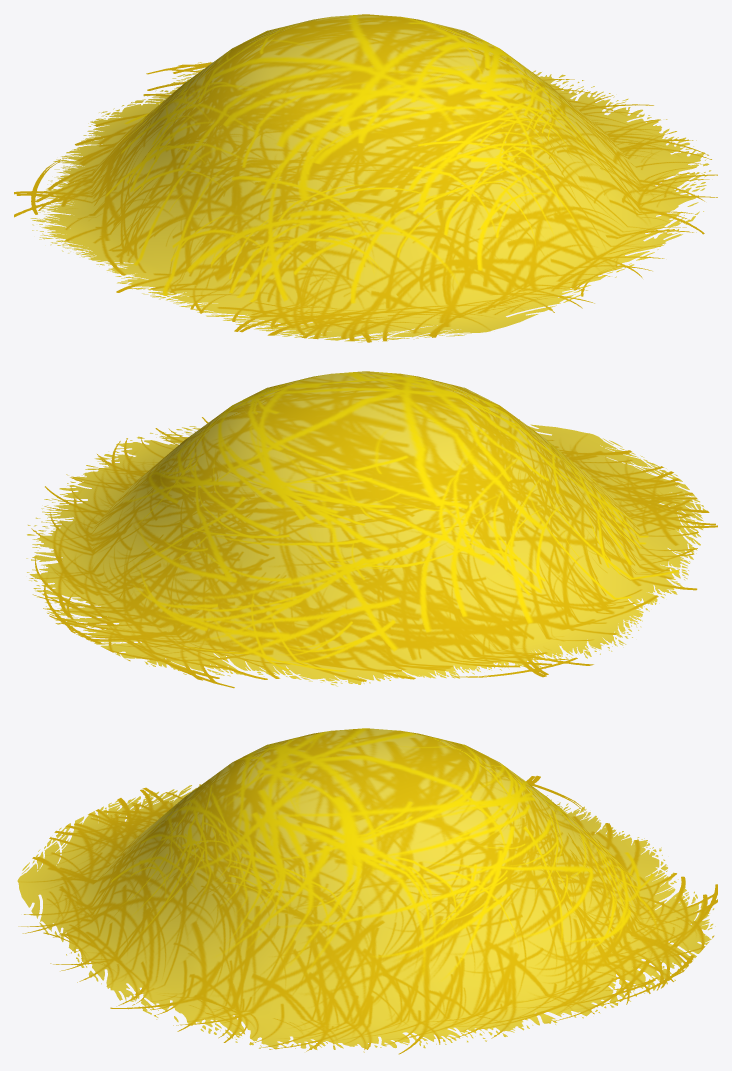
File: Hay_Pile.FBX
The picture shows the model from 3 angles, top to bottom: view 1: azimuth 30°, elevation 25°; view 2: azimuth 150°, elevation 25°; view 3: azimuth 270°, elevation 25°; orthographic projection.
Parts seen in each view (by area): view 1: Hay_Pile; view 2: Hay_Pile; view 3: Hay_Pile.
Part boxes in pixels (x1,y1,x2,y2): Hay_Pile: (14, 14, 717, 342); Hay_Pile: (26, 371, 717, 688); Hay_Pile: (17, 728, 717, 1054).
Size of the model in its own units: 30 by 6.89 by 29.54.
1 material, 1 textured.
